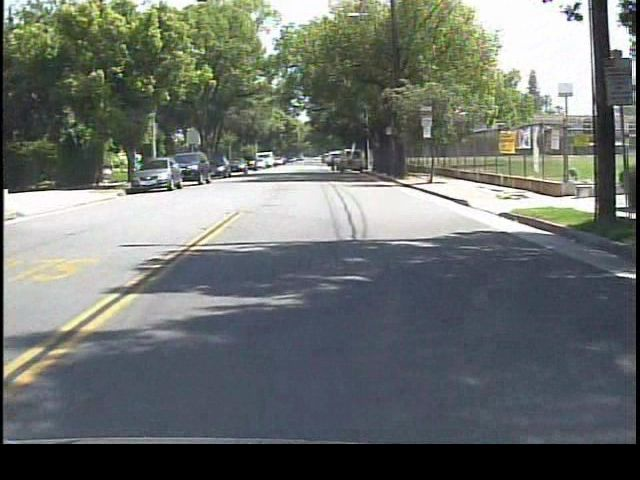person: (325, 150, 340, 176)
